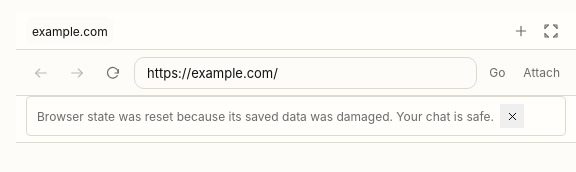
Test: BrowserPanel › surfaces a corrupt-state recovery without implying the chat was lost
Expected: the message shows "Browser state was reset because its saved data was damaged.", [37,108,494,124]
Expected: the message shows "Your chat is safe.", [37,108,494,124]
Click the button named "Dismiss Browser notice" at {"x": 512, "y": 116}, box [500,104,524,128]
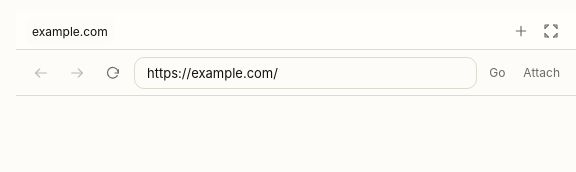
Now the text "Browser state was reset" is gone
